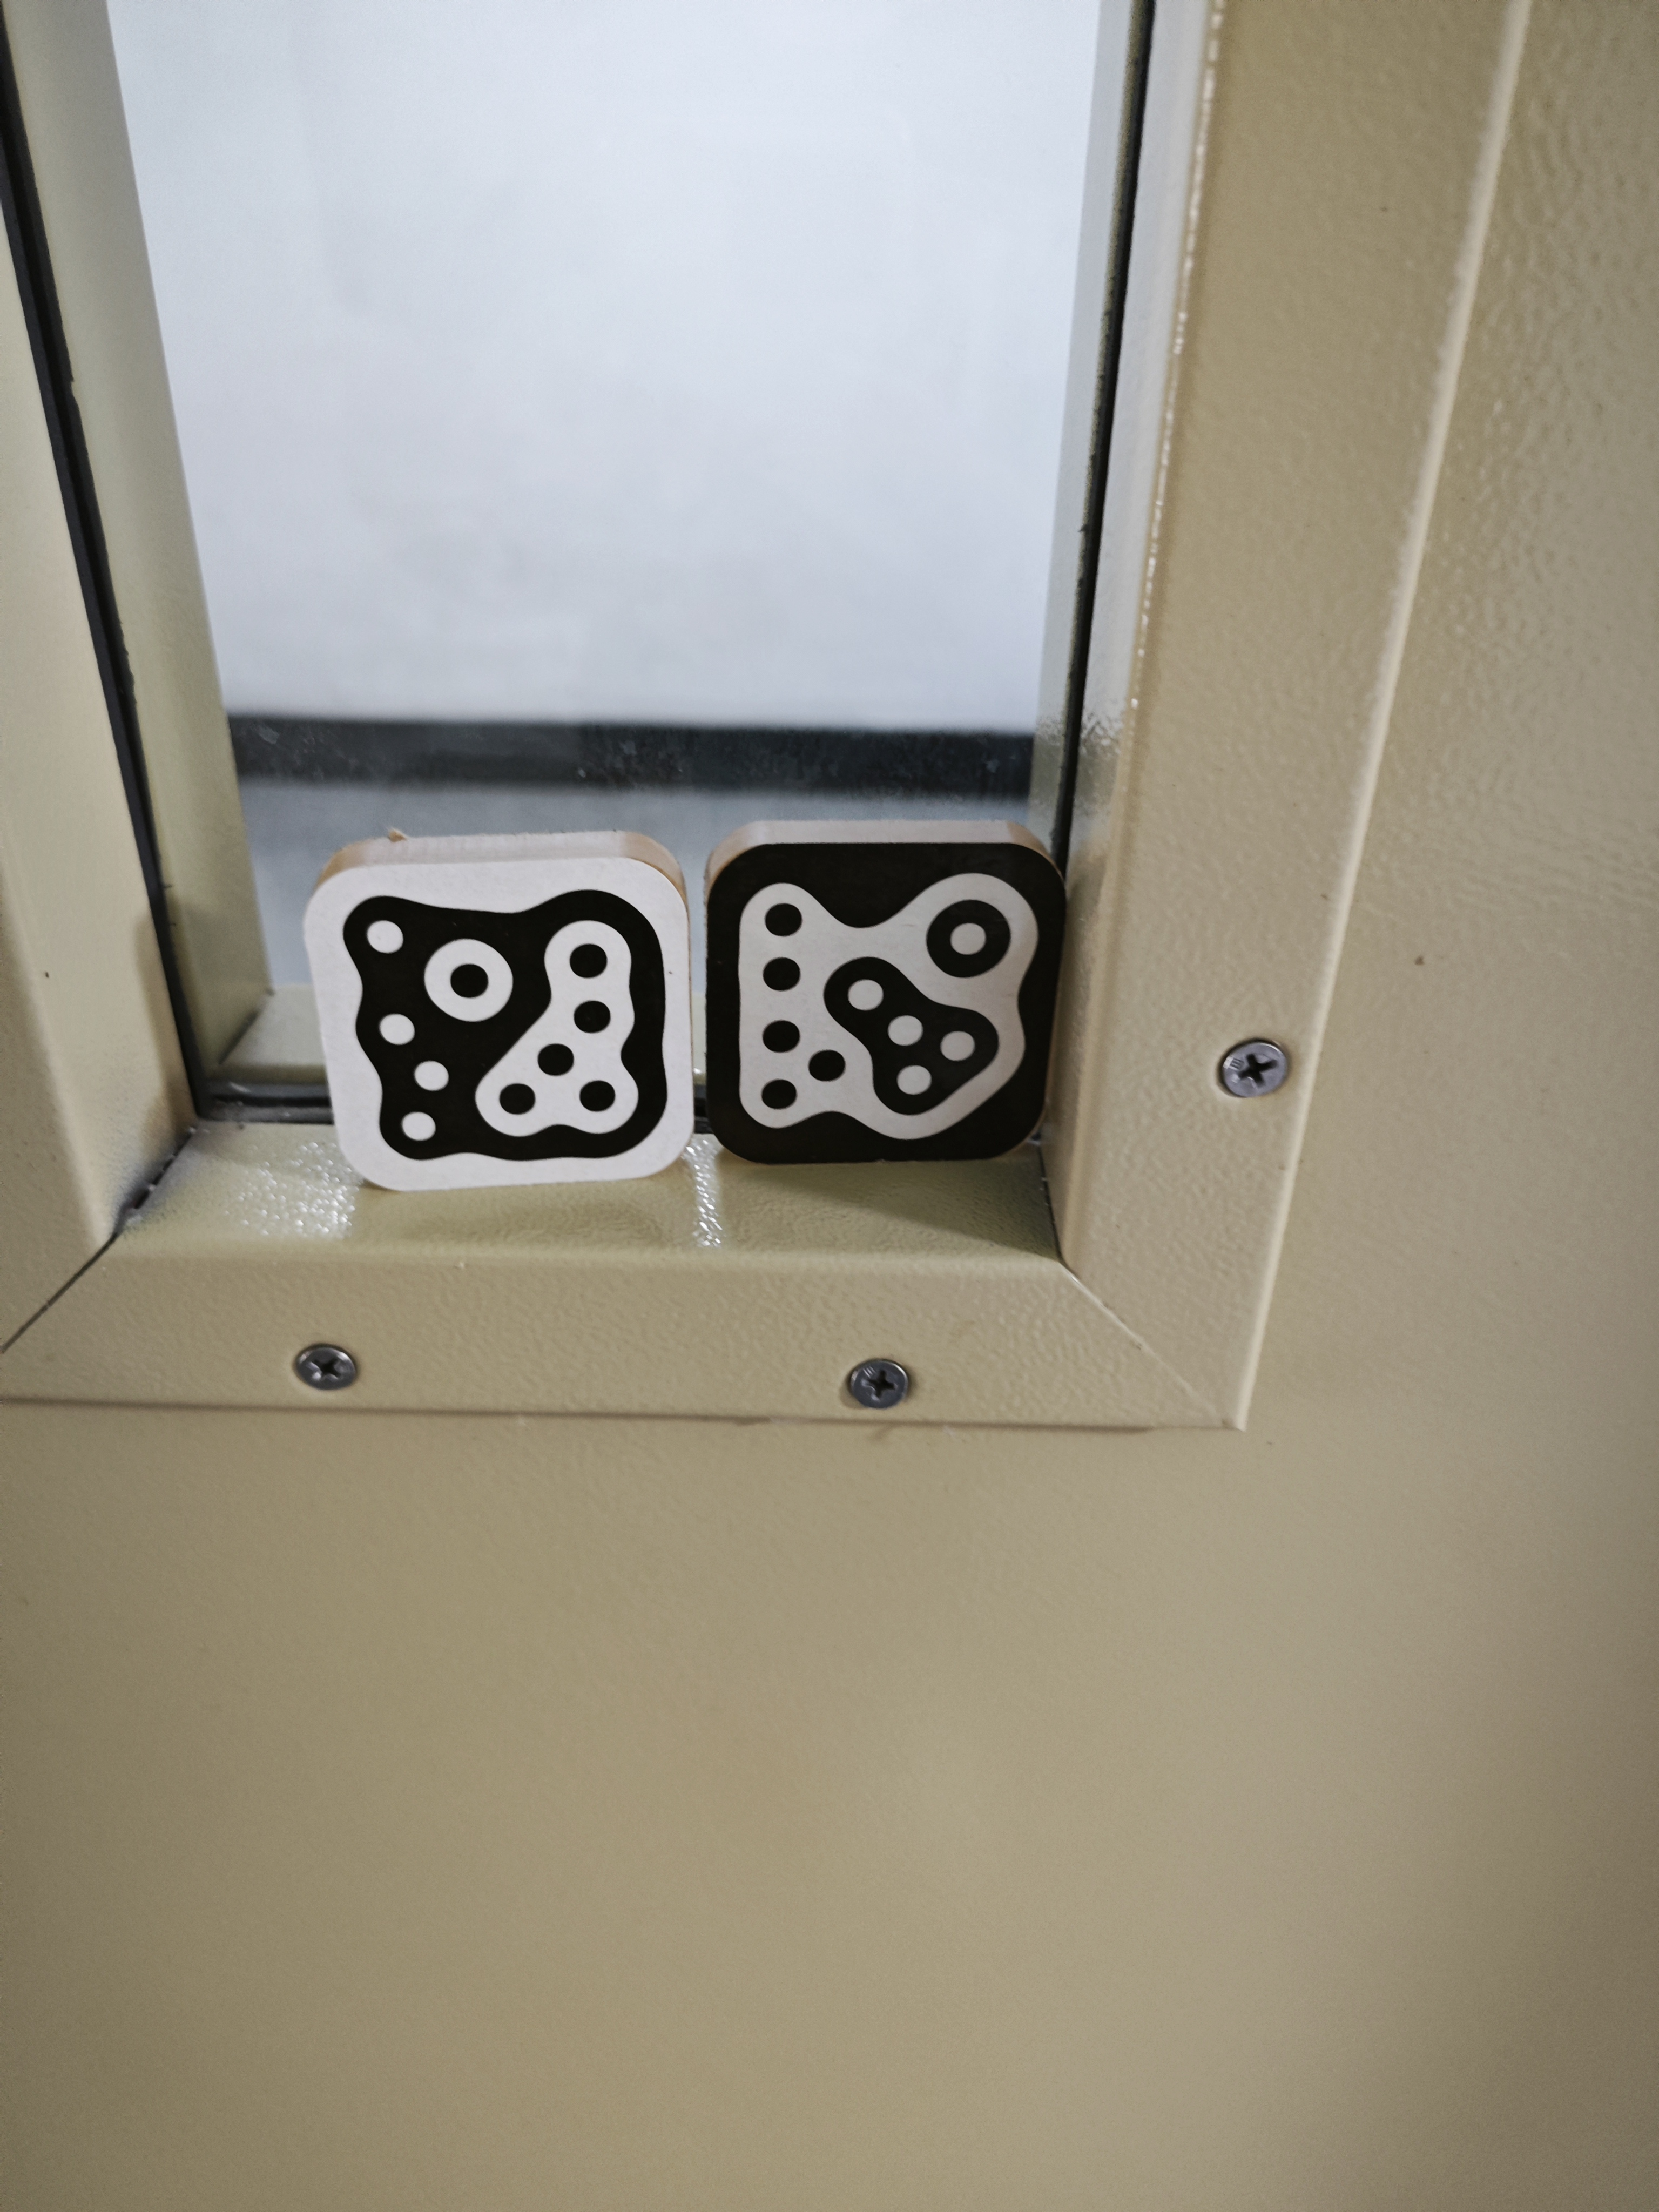mark1: (331, 887, 676, 1163)
mark2: (737, 860, 1040, 1148)
